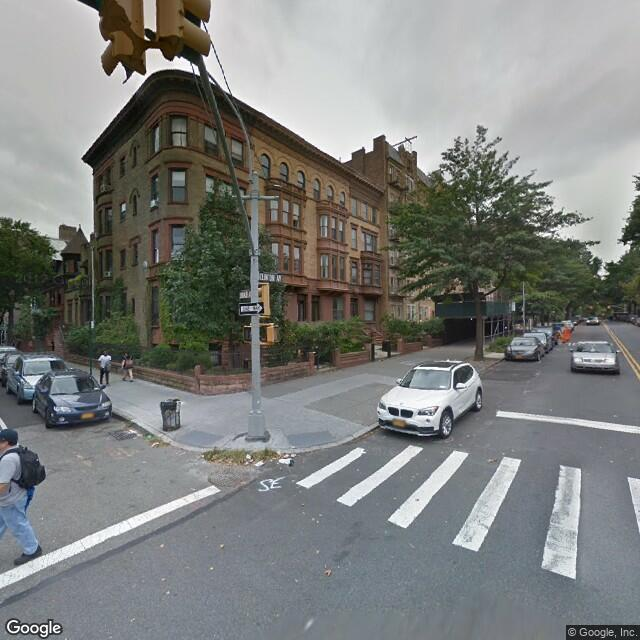litter: (280, 451, 298, 466), (245, 451, 254, 463), (149, 440, 161, 448), (198, 452, 207, 461), (128, 429, 139, 436), (257, 460, 265, 468)
